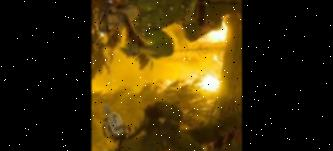fire: (156, 13, 235, 100)
